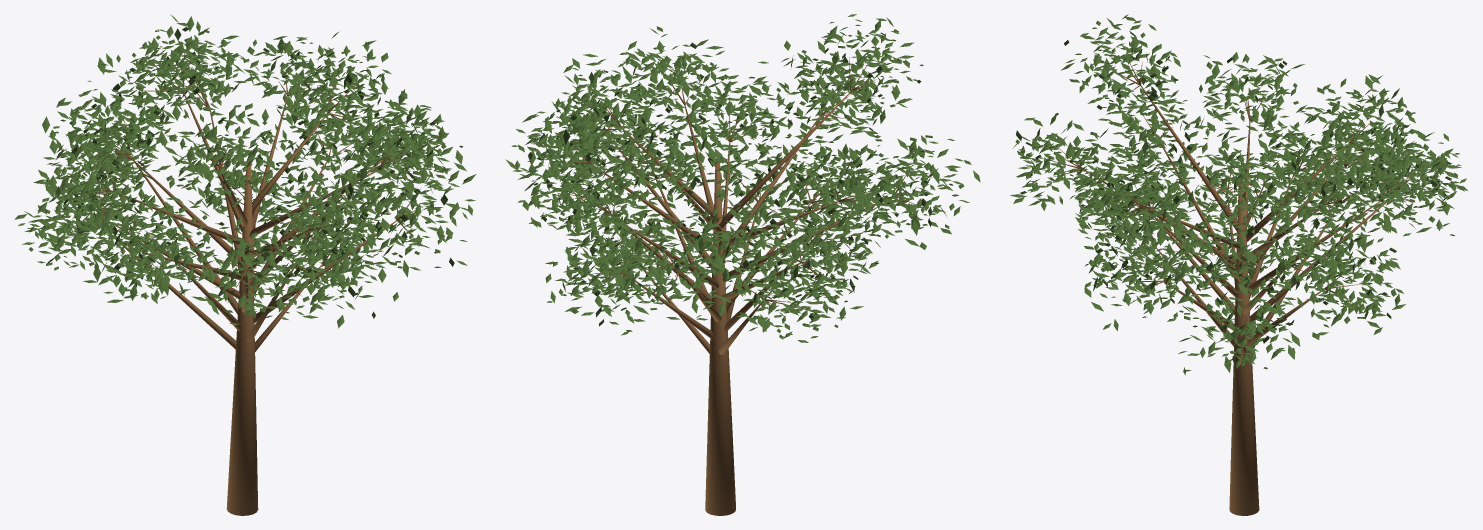
File: SM_Tree1.fbx
3 renders of one model, left to right at view 1: azimuth 30°, elevation 25°; view 2: azimuth 150°, elevation 25°; view 3: azimuth 270°, elevation 25°, orthographic. The views are drawn at different scales.
Parts seen in each view (by area): view 1: SM_Tree1; view 2: SM_Tree1; view 3: SM_Tree1.
Part boxes in pixels (box(x1,y1,x2,y2)): SM_Tree1: box(14, 14, 476, 515); SM_Tree1: box(505, 14, 980, 515); SM_Tree1: box(1010, 14, 1467, 515).
Bounding box in the file's own units: 661 × 697 × 753.
